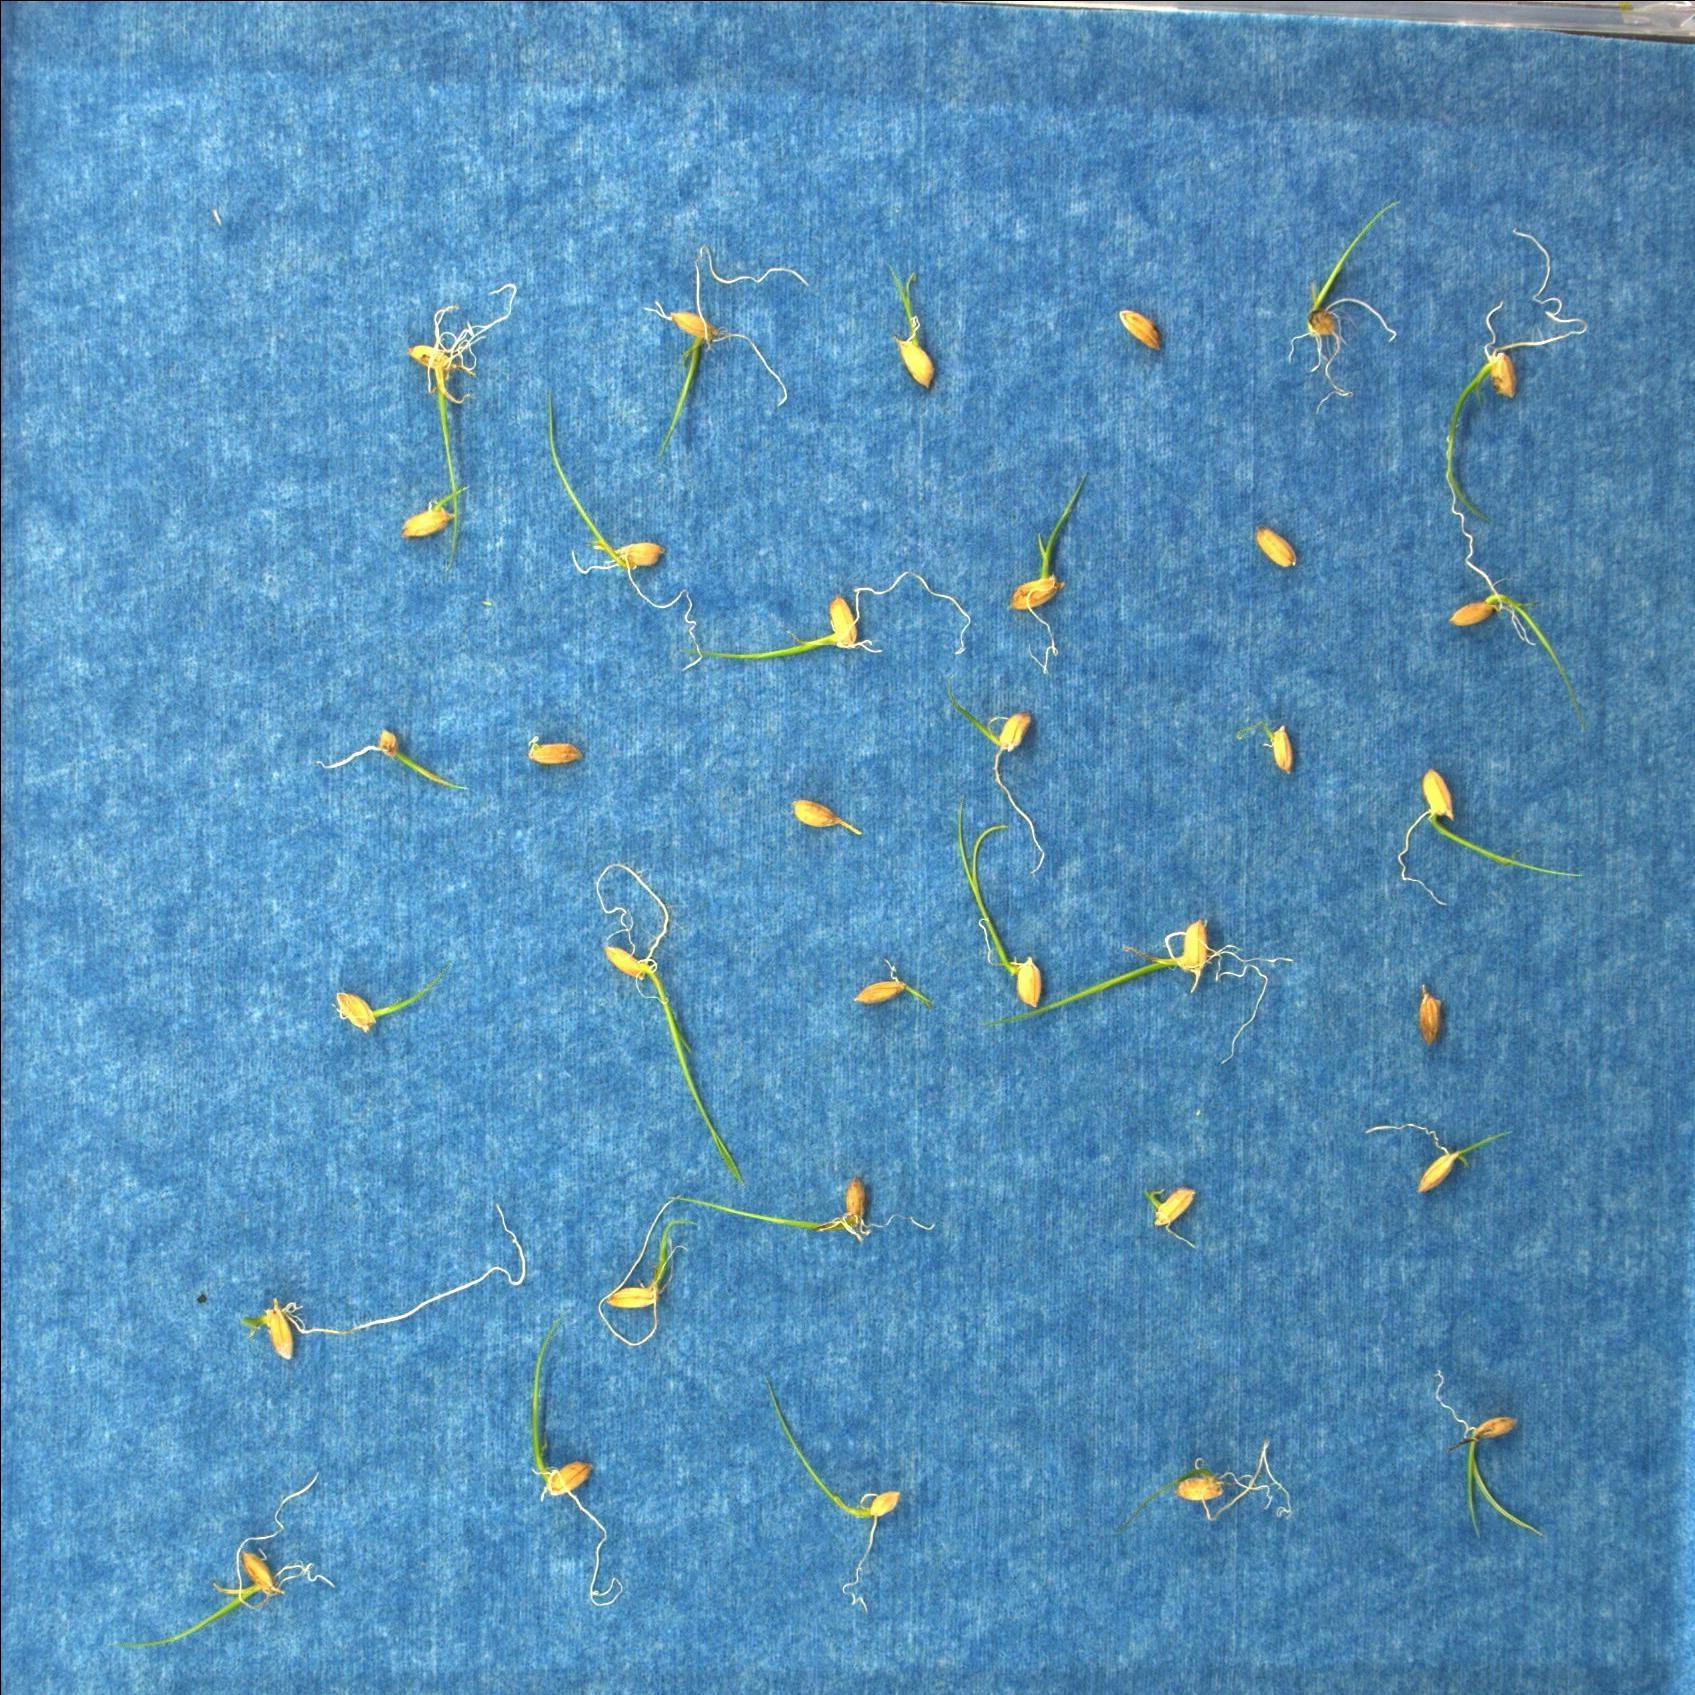not sprout: (841, 956, 944, 1012), (386, 494, 487, 545), (789, 790, 871, 851), (1406, 969, 1458, 1062), (1146, 1177, 1209, 1250), (1114, 301, 1167, 359), (1251, 525, 1309, 573), (1260, 722, 1298, 778), (520, 736, 584, 768)
sprout: (584, 849, 754, 1187), (536, 400, 719, 677), (1431, 438, 1602, 726), (1000, 914, 1302, 1069), (237, 1203, 529, 1361), (1442, 231, 1586, 525), (133, 1470, 357, 1650), (626, 241, 809, 449), (757, 1371, 906, 1617), (408, 287, 525, 570), (517, 1312, 622, 1616), (1385, 767, 1586, 916), (677, 573, 978, 671), (1291, 199, 1417, 408), (1419, 1363, 1555, 1549), (993, 459, 1107, 671), (947, 807, 1062, 1012), (664, 1170, 944, 1245), (591, 1191, 709, 1352), (1360, 1110, 1529, 1200), (310, 712, 478, 799), (1164, 1430, 1301, 1534), (975, 712, 1060, 872), (318, 967, 456, 1038), (879, 270, 947, 400)
